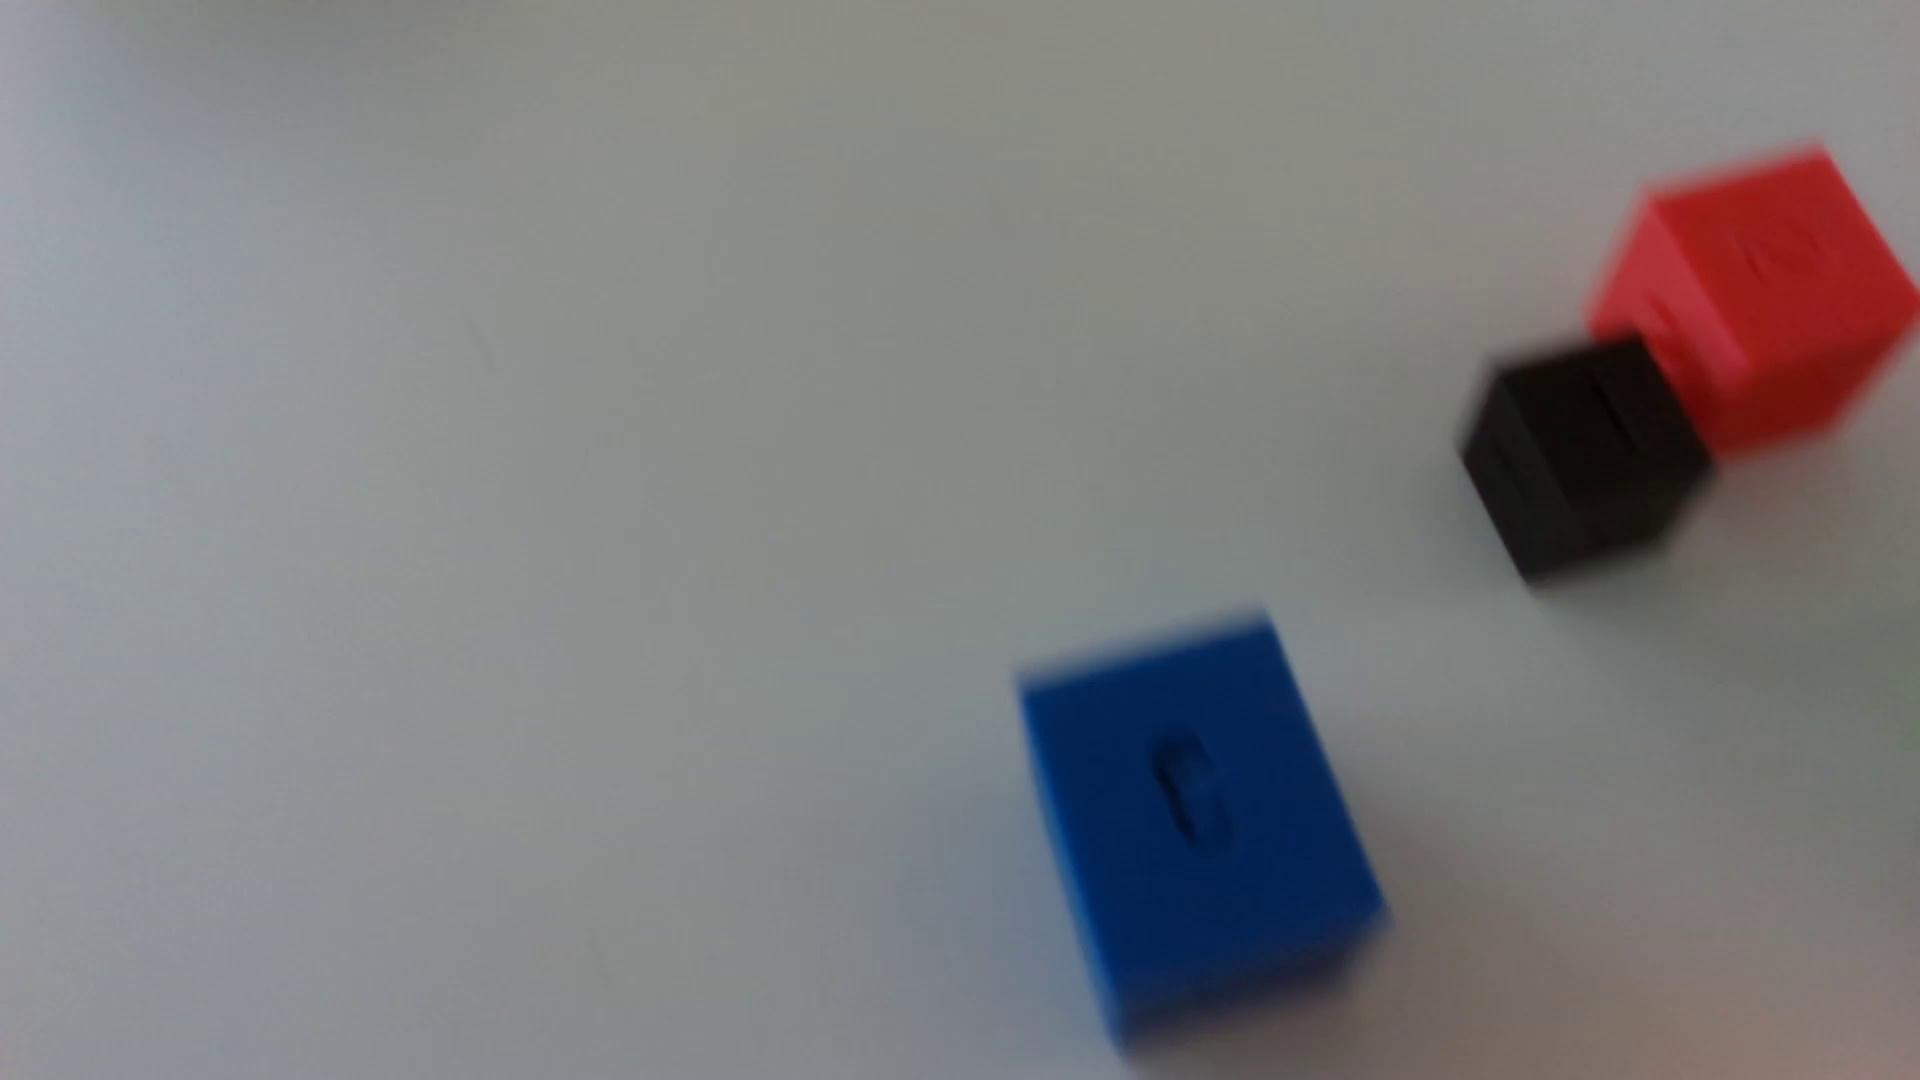black: (1458, 336, 1712, 585)
blue: (1021, 620, 1385, 1044)
red: (1586, 150, 1920, 462)
